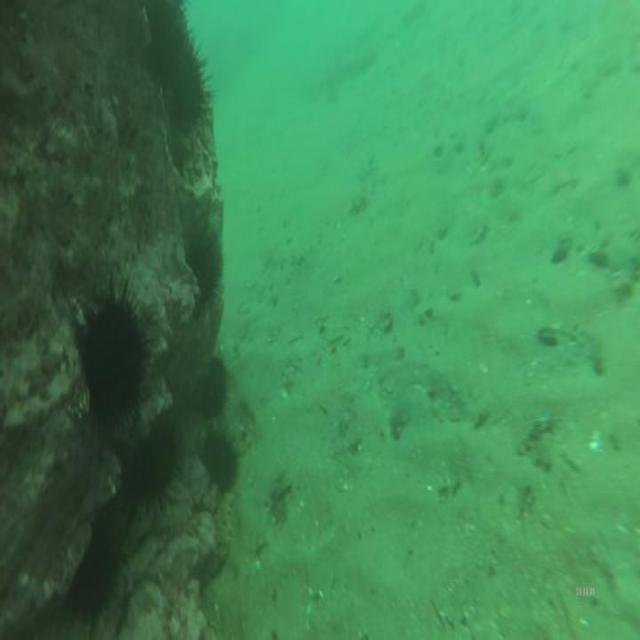echinus: (66, 267, 156, 435), (159, 22, 215, 139), (124, 412, 184, 512), (197, 418, 248, 502), (199, 348, 237, 427)
